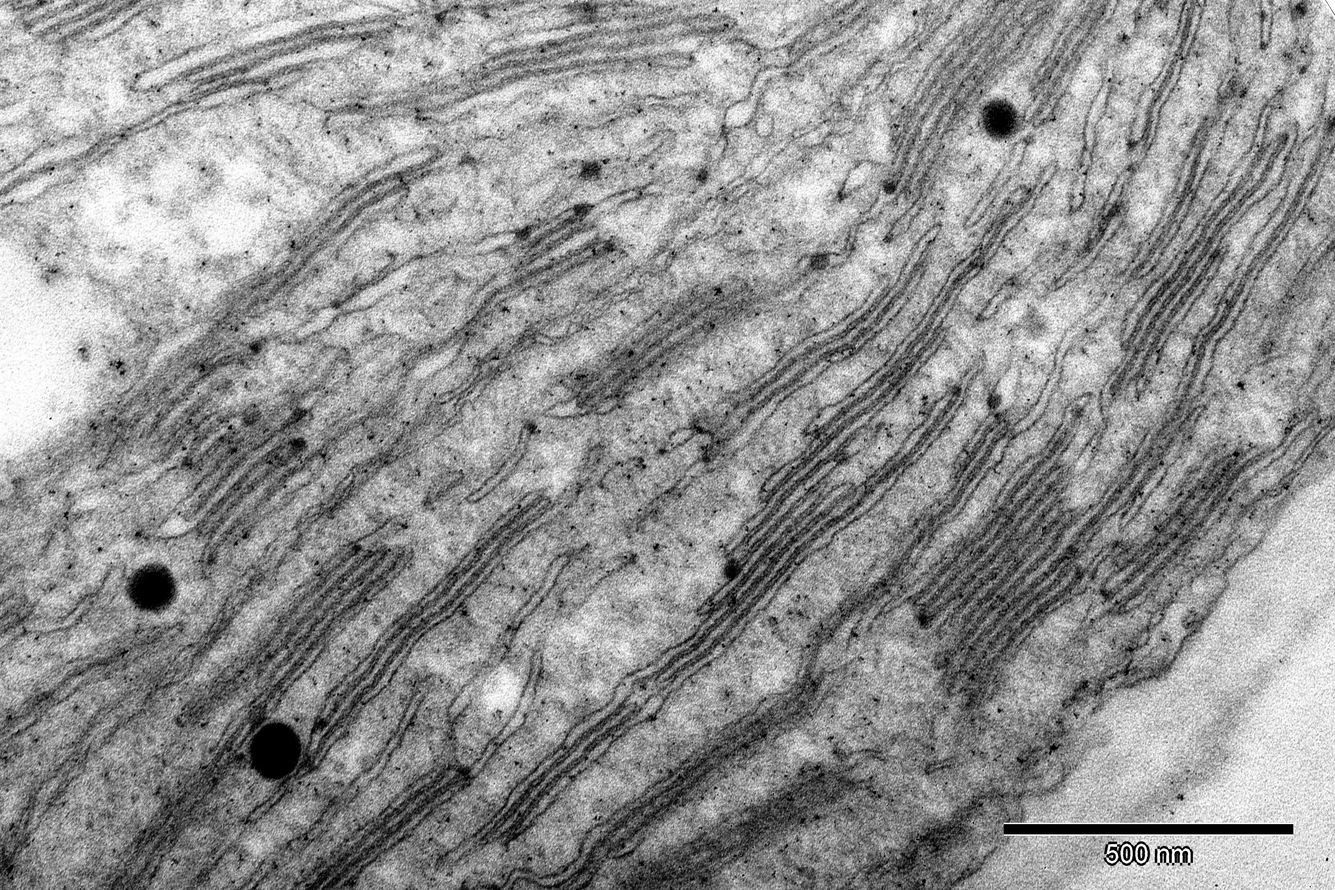granum: (309, 485, 566, 742), (636, 447, 876, 699), (892, 440, 1103, 720), (98, 320, 334, 564), (681, 269, 914, 472), (582, 669, 828, 861), (1111, 127, 1293, 371), (877, 0, 1064, 210), (602, 757, 873, 890), (210, 152, 415, 326), (550, 265, 768, 420), (226, 533, 408, 710), (1091, 437, 1266, 620), (473, 683, 658, 849), (794, 308, 955, 482), (476, 0, 759, 92), (279, 761, 479, 890), (178, 1, 368, 115), (86, 760, 227, 890), (1093, 396, 1211, 535), (492, 193, 623, 311), (1020, 0, 1124, 121), (771, 0, 907, 78), (0, 0, 168, 54), (943, 406, 1019, 492)
